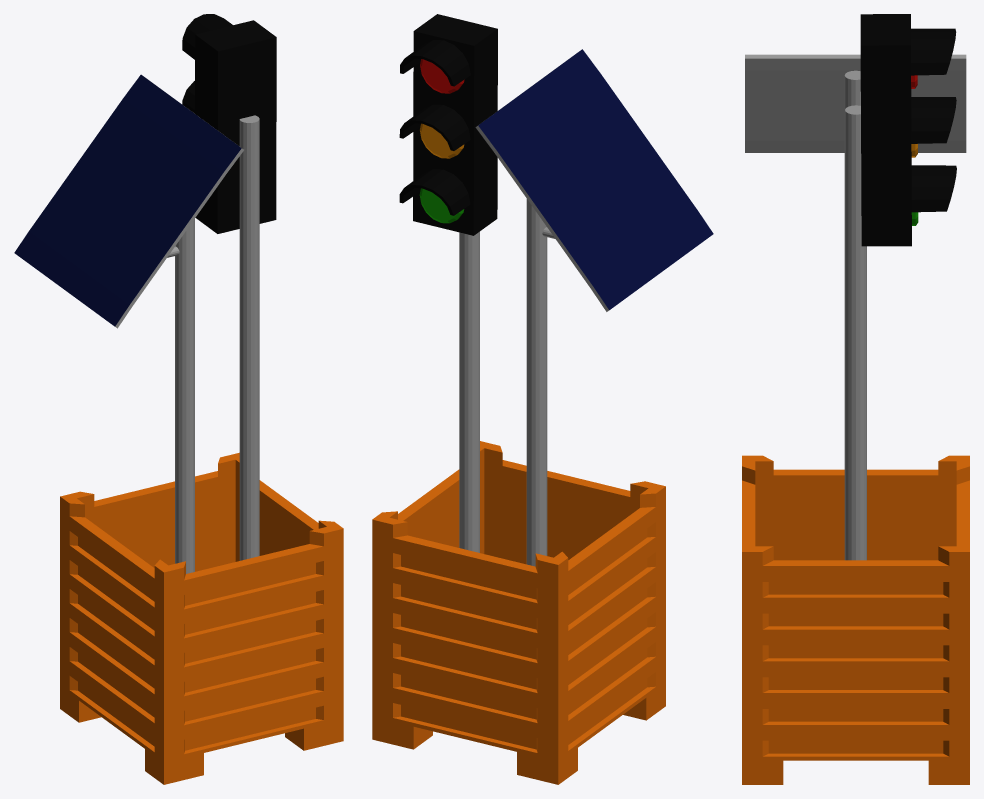
Rendered from traffic_light_box.fbx.
3 renders of one model, left to right at view 1: azimuth 30°, elevation 25°; view 2: azimuth 150°, elevation 25°; view 3: azimuth 270°, elevation 25°, orthographic. The views are drawn at different scales.
Parts seen in each view (by area): view 1: semafor_stlp.001; view 2: semafor_stlp.001; view 3: semafor_stlp.001.
Part boxes in pixels (x1,y1,x2,y2): semafor_stlp.001: [14, 14, 343, 784]; semafor_stlp.001: [372, 14, 713, 784]; semafor_stlp.001: [742, 14, 969, 784].
Bounding box in the file's own units: 76.88 × 97.21 × 273.
7 materials, 1 textured.
